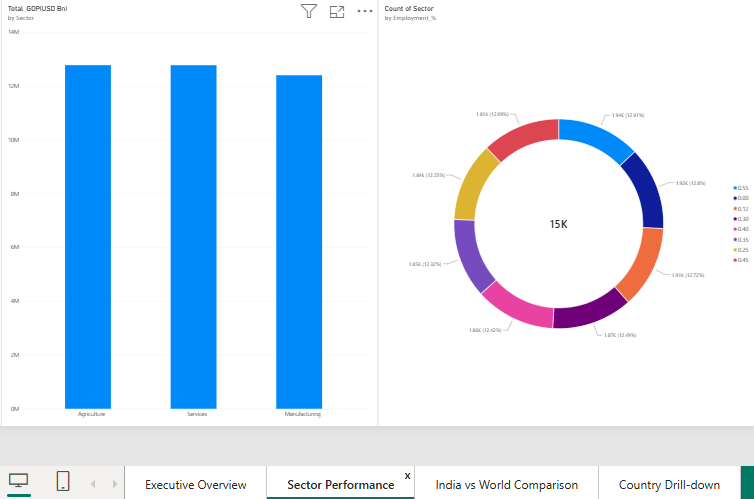

This screenshot's page, from the dashboard's own definition file:
{"tool":"powerbi","page":{"name":"Sector Performance","canvas":[1920,1080],"ordinal":1},"visuals":[{"type":"clusteredColumnChart","fields":{"Category":["Data_project---Economic Sector Analysis of India and Global Economies using Powe.Sector "],"Y":["Data_project---Economic Sector Analysis of India and Global Economies using Powe.Total_GDP(USD Bn)"]},"box":[10,0,950,1080],"z":0},{"type":"donutChart","fields":{"Category":["Data_project---Economic Sector Analysis of India and Global Economies using Powe.Employment_%"],"Y":["CountNonNull(Data_project---Economic Sector Analysis of India and Global Economies using Powe.Sector )"]},"box":[960,0,960,1080],"z":1}]}

Visuals, with their boxes on the page's 1920x1080 design canvas (x1, y1, x2, y2). These are canvas units, not pixel positions in the 754x499 screenshot, which may show the page scaled, cropped or inside an application window:
clusteredColumnChart - Data_project---Economic Sector Analysis of India and Global Economies using Powe.Sector  x Data_project---Economic Sector Analysis of India and Global Economies using Powe.Total_GDP(USD Bn): bbox=[10, 0, 960, 1080]
donutChart - Data_project---Economic Sector Analysis of India and Global Economies using Powe.Employment_% x CountNonNull(Data_project---Economic Sector Analysis of India and Global Economies using Powe.Sector ): bbox=[960, 0, 1920, 1080]
